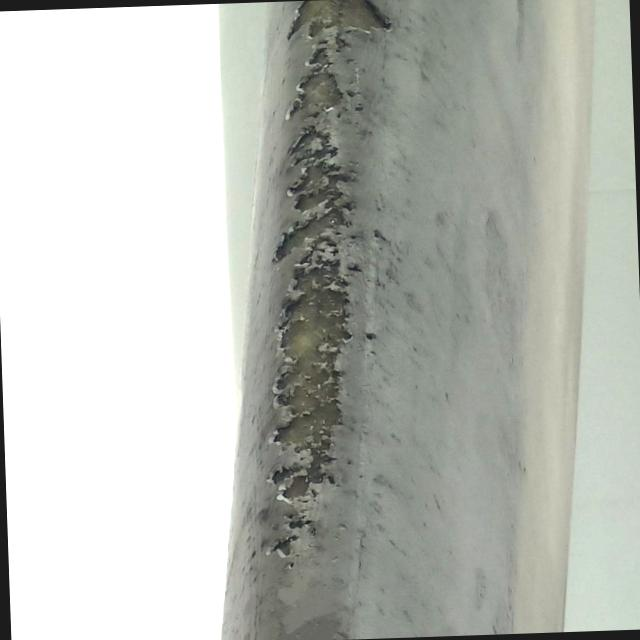corrosion: (242, 0, 412, 558)
